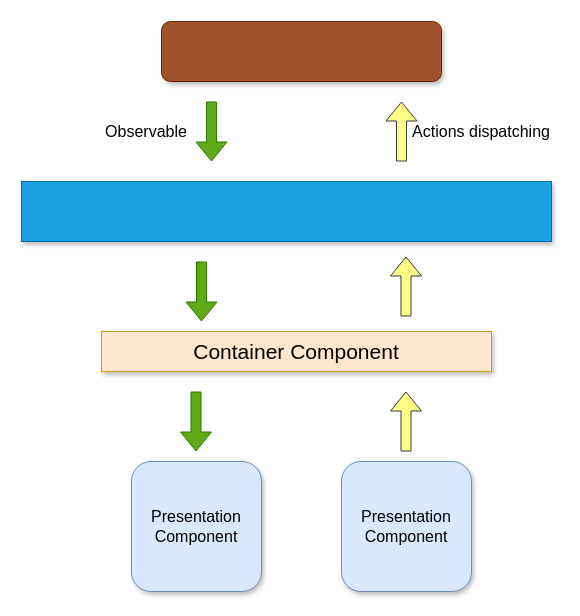
The diagram is 580 pixels wide and 616 high, and some of its shapes have lost their labels. Each missing label, with the centre of its shape:
"FACADE" belongs at [287,212].
"Store" belongs at [302,52].
